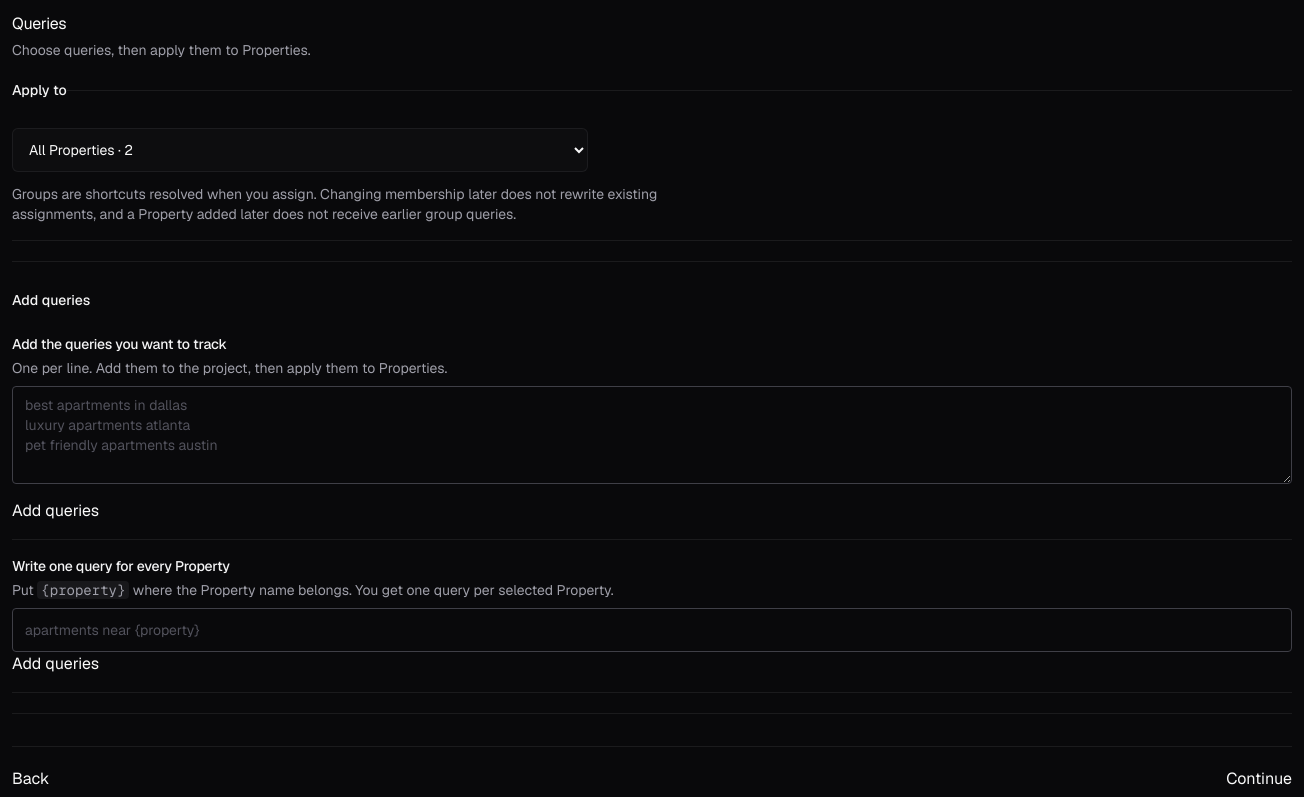
Test: asks for a placeholder rather than writing the same query repeatedly
This screenshot has width=1304, height=797.
Type "best apartments" into the field named "Query pattern" at coordinates (652, 630), box [12,608,1292,652]
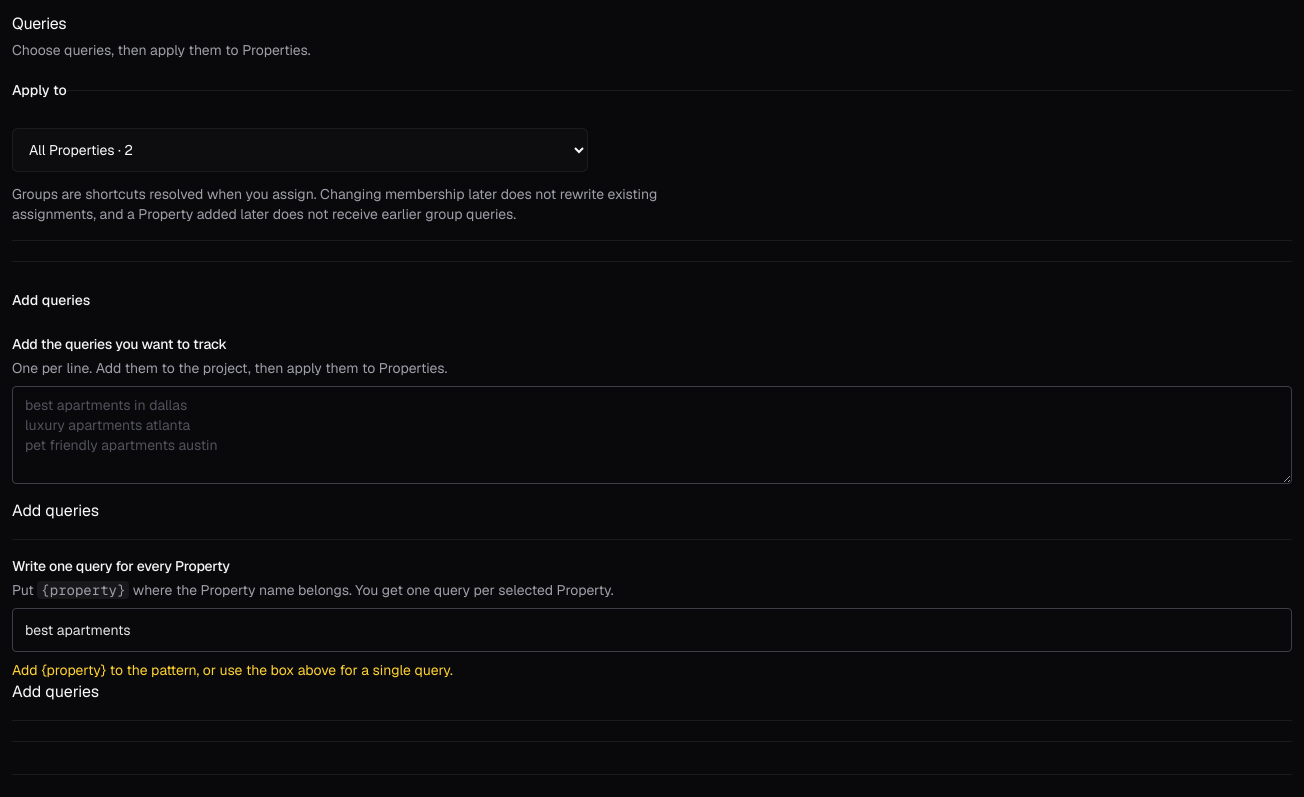
Now the text "Add {property} to the pattern" is shown, box [12,661,453,679]
